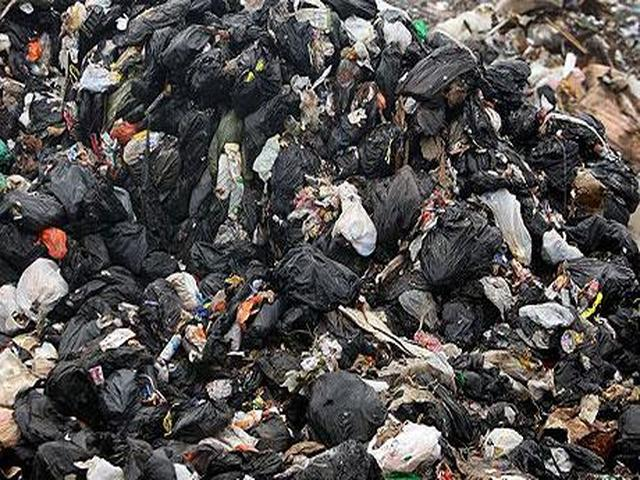garbage: (23, 43, 627, 465)
